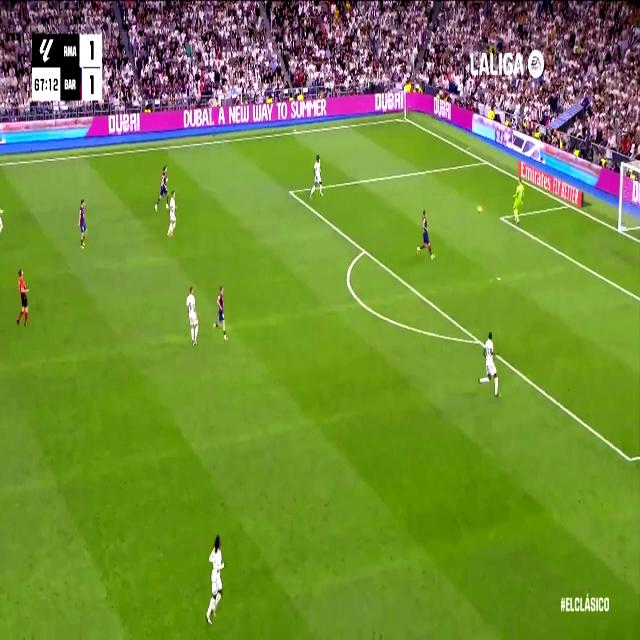bigarea_bottom_inner: (624, 445, 636, 472)
bigarea_top_outter: (482, 154, 490, 168)
bottom_arc_area_intersection: (474, 329, 483, 351)
corner: (400, 112, 410, 124)
smallarea_top_inner: (499, 211, 505, 225)
top_arc_area_intersection: (360, 241, 369, 259)
